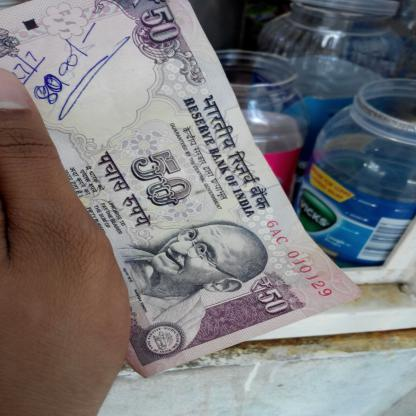Old50Front: (0, 0, 362, 378)
